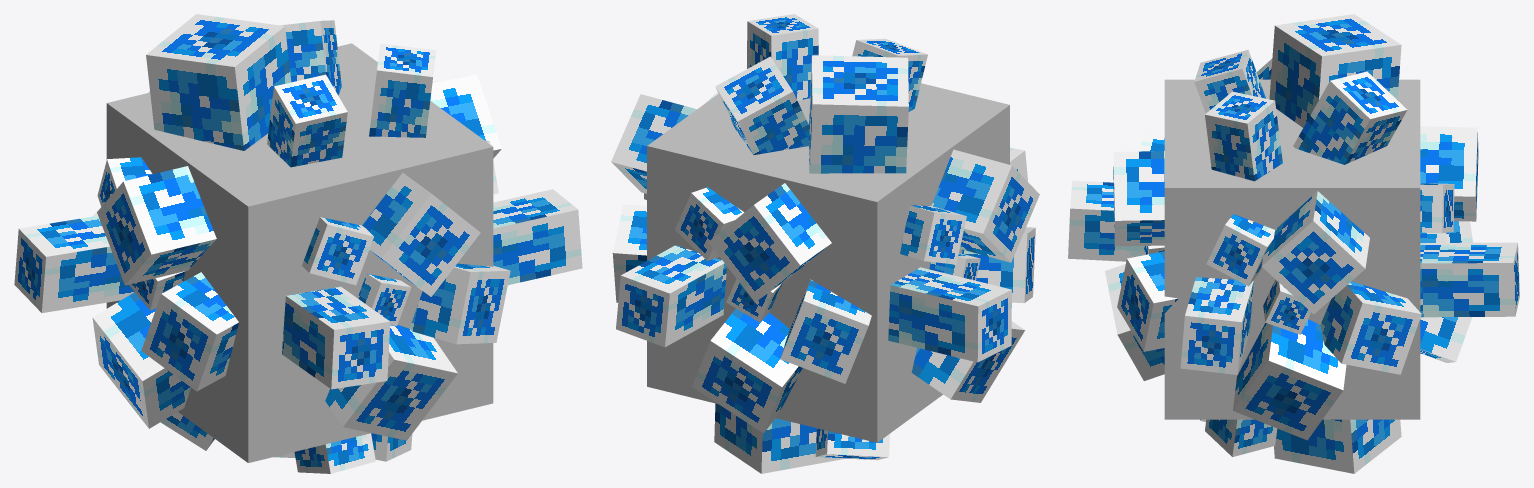
Rendered from sapphire_ore_v4.obj.
3 renders of one model, left to right at view 1: azimuth 30°, elevation 25°; view 2: azimuth 150°, elevation 25°; view 3: azimuth 270°, elevation 25°, orthographic. The views are drawn at different scales.
Bounding box in the file's own units: 1.85 × 1.66 × 1.77.
